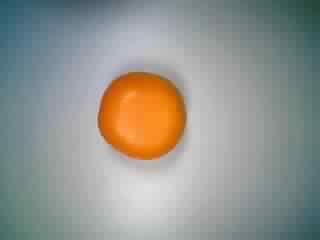orange: (95, 61, 190, 163)
